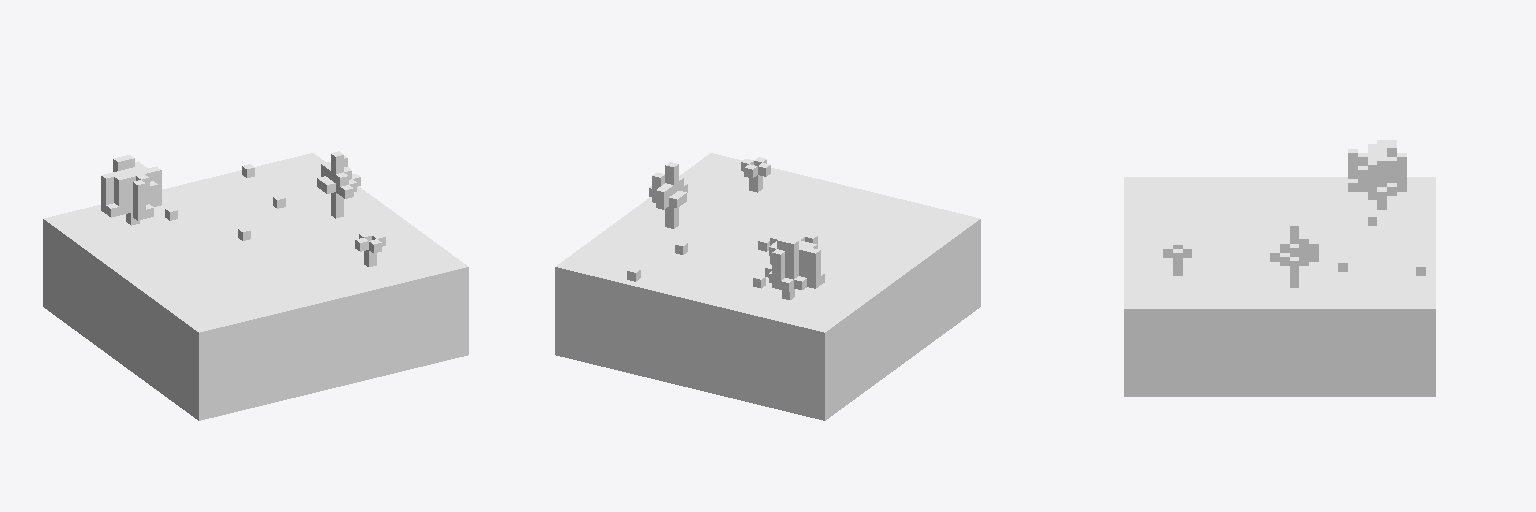
File: Overworld_Beach_12.obj
3 views of the same model, side by side, from view 1: azimuth 30°, elevation 25°; view 2: azimuth 150°, elevation 25°; view 3: azimuth 270°, elevation 25° (orthographic).
Visible parts, largest first — view 1: object 1; view 2: object 1; view 3: object 1.
Boxes of the visible parts, box(x1,y1,x2,y2) form: object 1: box(43, 151, 468, 420); object 1: box(555, 153, 980, 420); object 1: box(1124, 140, 1435, 396).
Bounding box in the file's own units: 3.2 × 1.7 × 3.2.